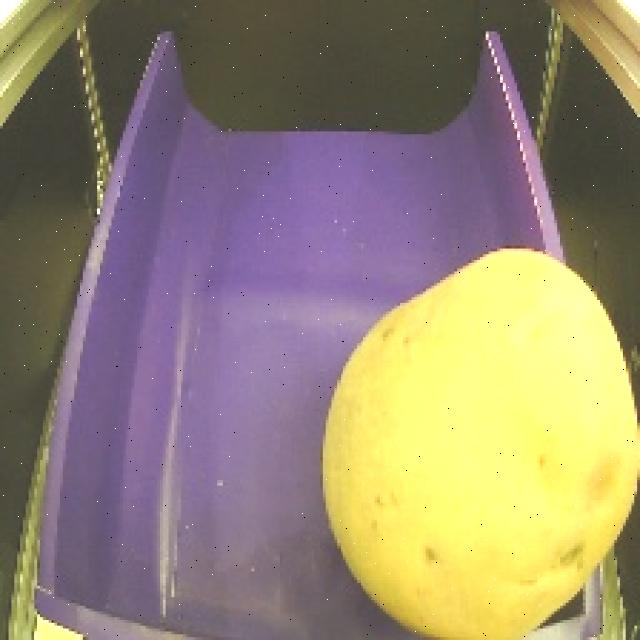full_potato: (300, 231, 640, 640)
